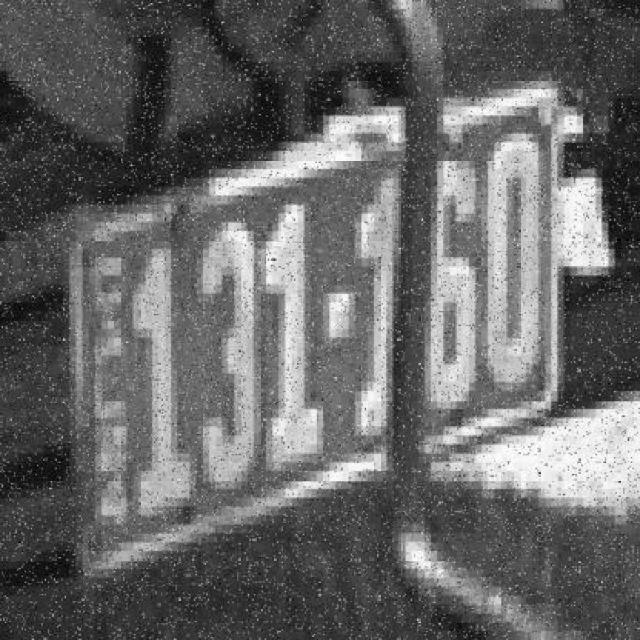licenseplate: (59, 50, 603, 599)
